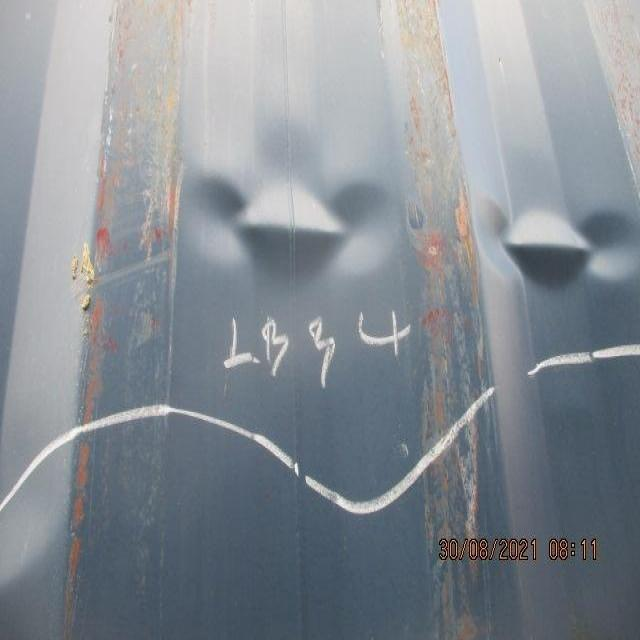dent: (189, 114, 393, 325), (472, 171, 635, 323)
